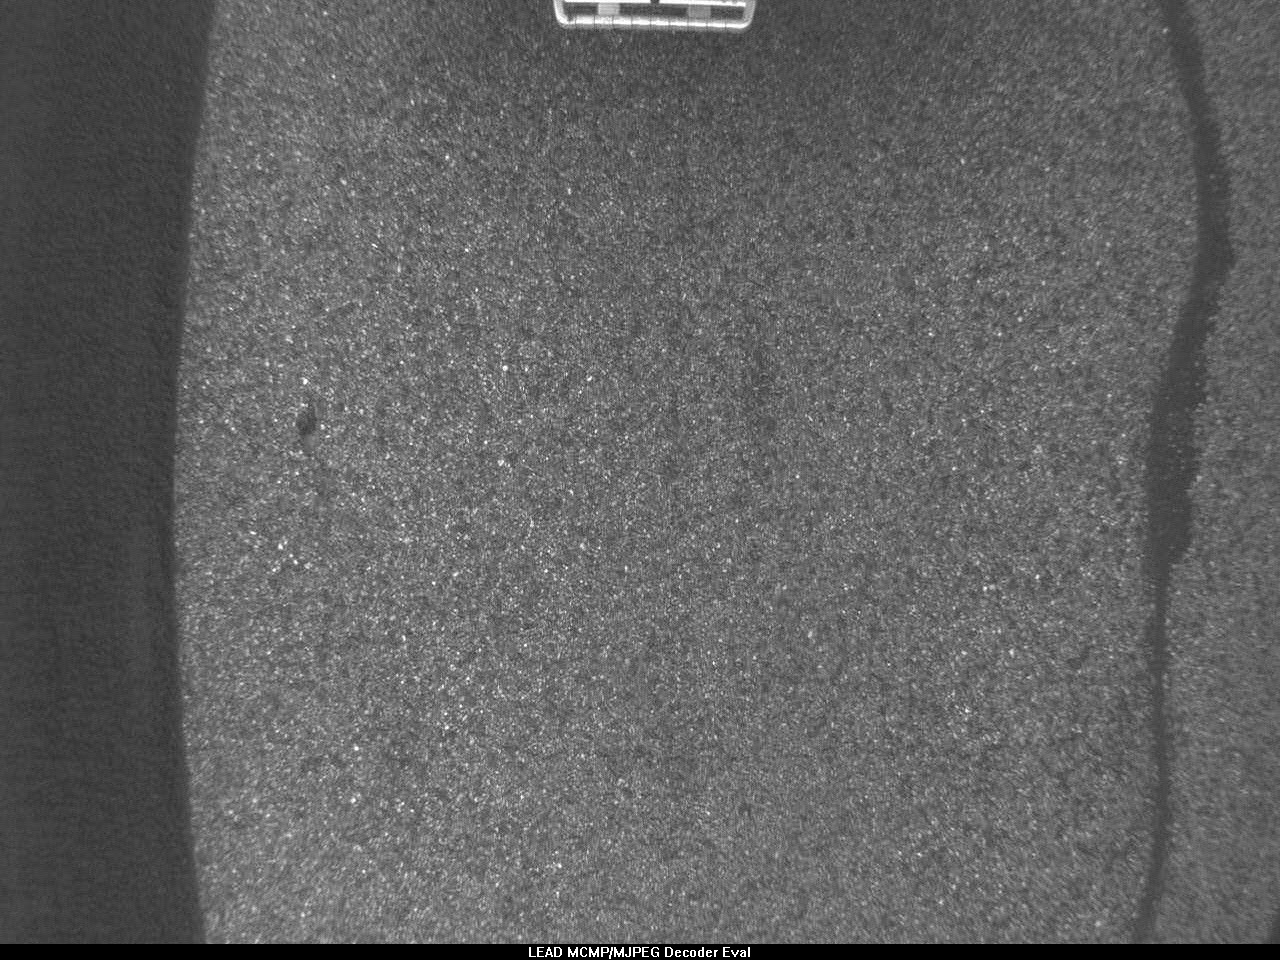sealed: (1124, 1, 1238, 930)
